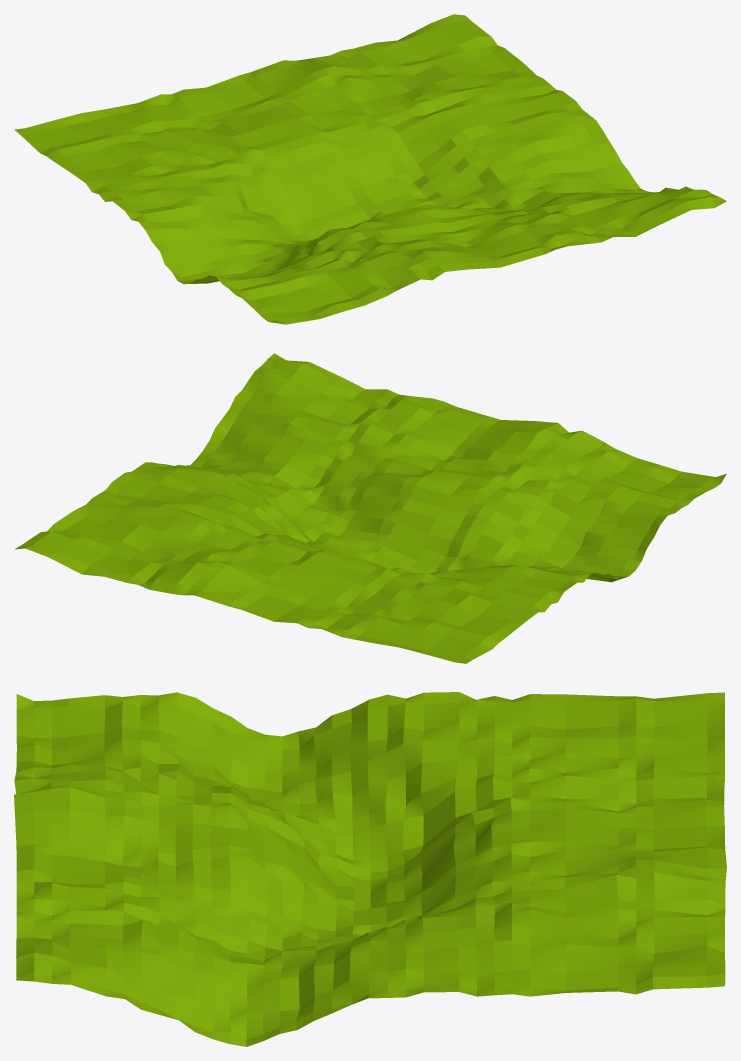
The model's file is ENV1.fbx.
3 renders of one model, top to bottom at view 1: azimuth 30°, elevation 25°; view 2: azimuth 150°, elevation 25°; view 3: azimuth 270°, elevation 25°, orthographic. The views are drawn at different scales.
Parts seen in each view (by area): view 1: EnvironmentTest1; view 2: EnvironmentTest1; view 3: EnvironmentTest1.
Part boxes in pixels (x1,y1,x2,y2): EnvironmentTest1: (14,14,726,324); EnvironmentTest1: (15,353,726,663); EnvironmentTest1: (14,692,726,1046).
Bounding box in the file's own units: 29111 × 4243 × 29230.
